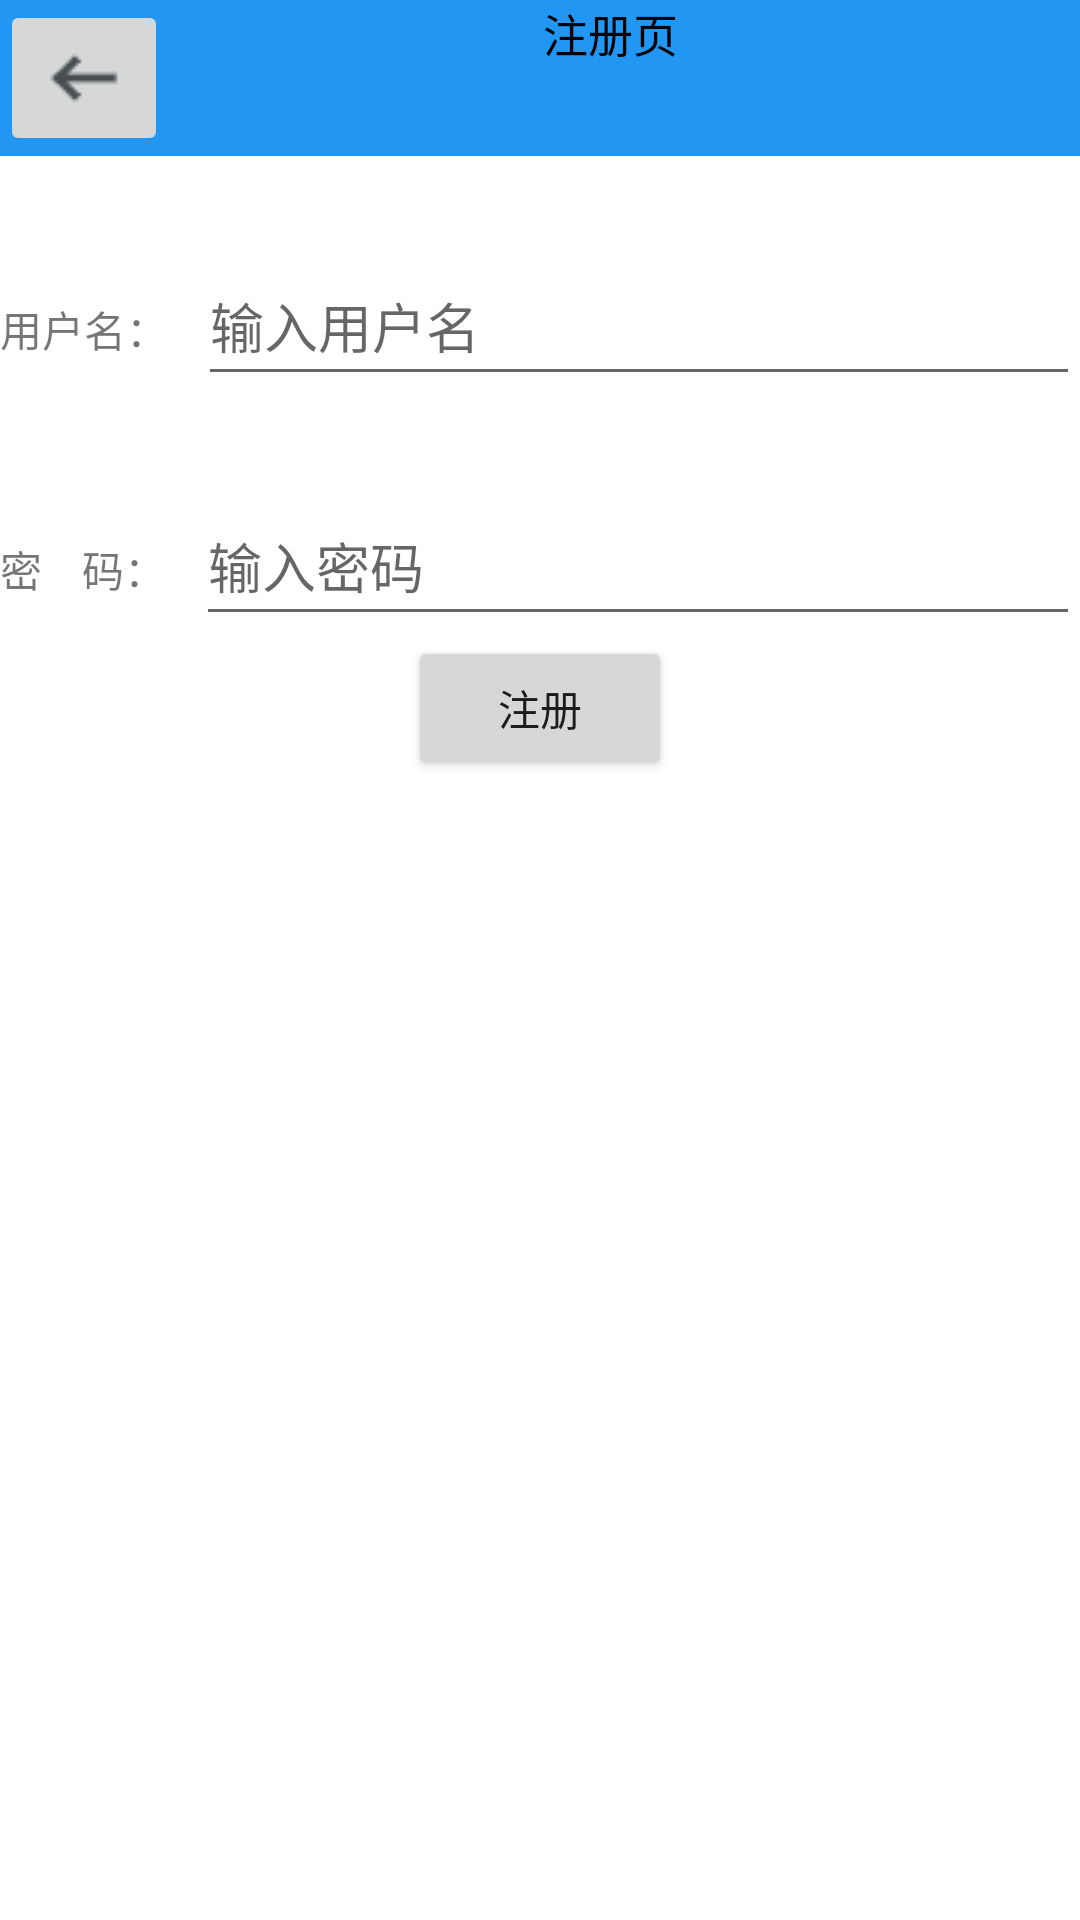

Screen size 1080x1920. Icon name, then its box in pixels as (x1, y1, x2, y2):
arrow left: (12, 18, 156, 138)
